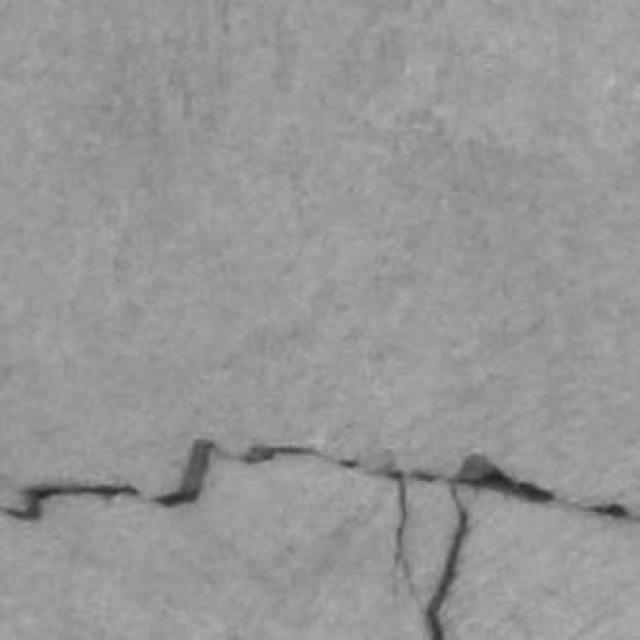crack: (0, 439, 639, 639), (150, 439, 639, 521), (425, 485, 469, 639), (4, 485, 139, 519), (156, 439, 217, 506), (394, 476, 416, 597)
